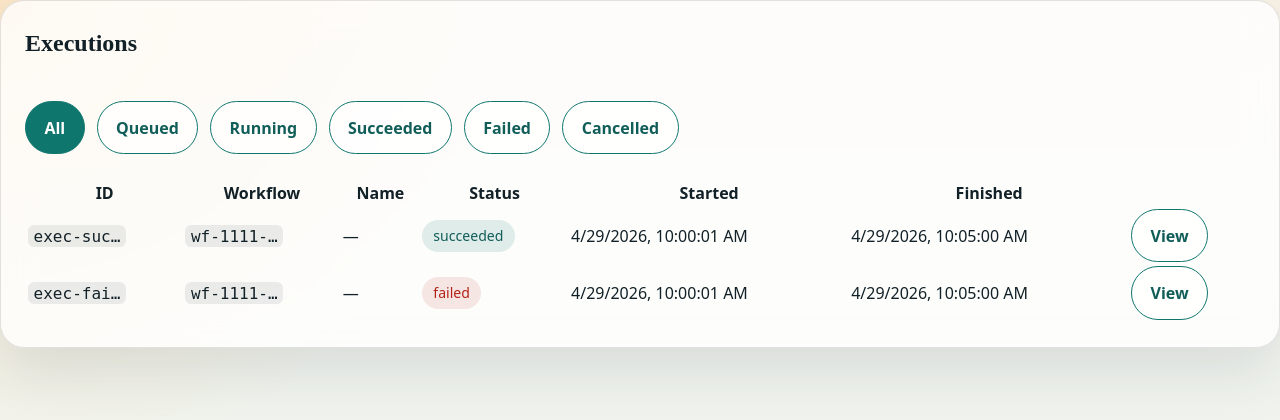
Test: ExecutionsPage › filters executions by status when a filter button is clicked
The image size is (1280, 420).
Expected: the number of links "View" is 2, [1131,209,1208,262]; [1131,266,1208,320]
# Filter to only failed
Click the button "Failed". click: (507, 128)
box: [464,101,550,154]
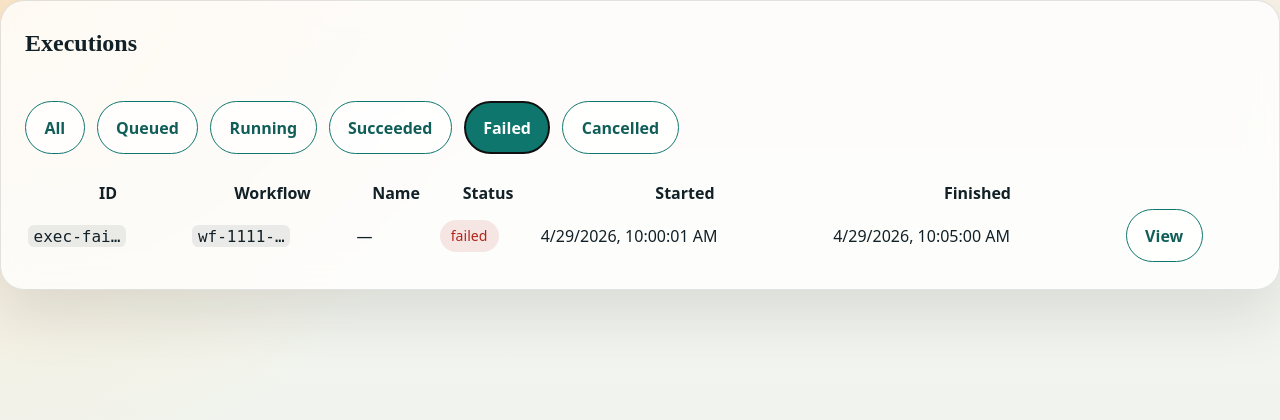
Expected: the text "failed" is shown, [440,220,499,252]
Result: the number of links "View" is 1 at [1126,209,1203,262]
